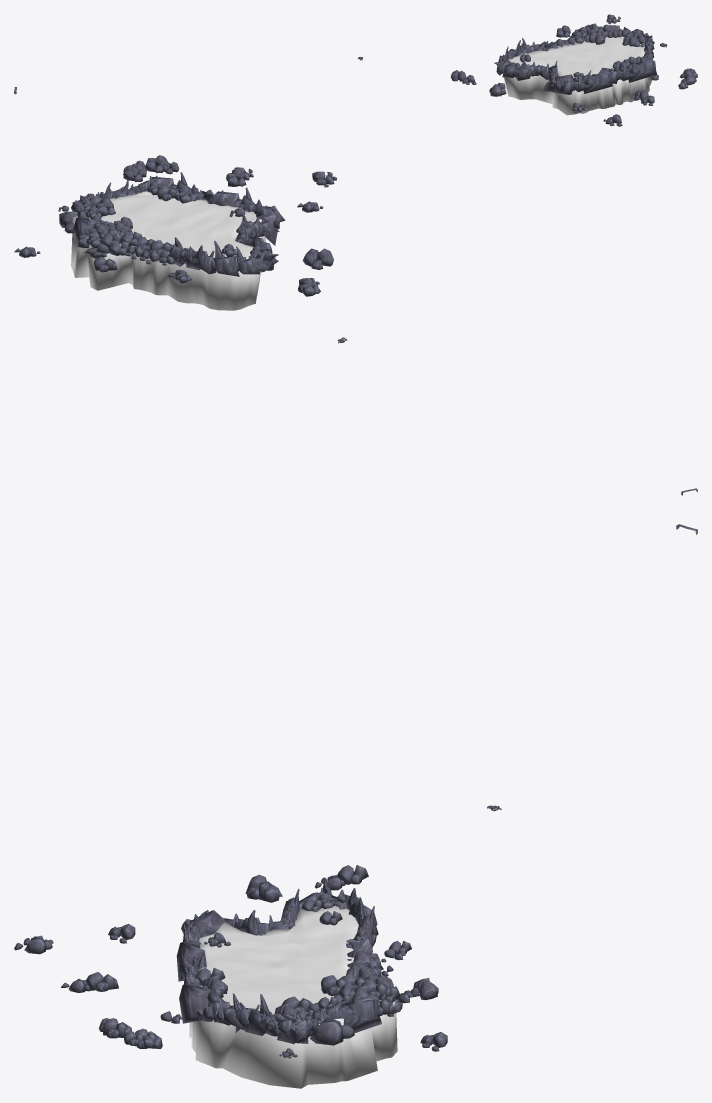
File: HubFloor.fbx
The picture shows the model from 3 angles, top to bottom: view 1: azimuth 30°, elevation 25°; view 2: azimuth 150°, elevation 25°; view 3: azimuth 270°, elevation 25°; orthographic projection. The views are drawn at different scales.
Visible parts, largest first — view 1: Cube.112, Plane.001; view 2: Cube.112, Plane.001; view 3: Cube.112, Plane.001.
Boxes of the visible parts, x1,y1,x2,y2 form: Cube.112: (14,14,697,126); Plane.001: (504,36,652,115); Cube.112: (14,155,697,495); Plane.001: (71,191,265,310); Cube.112: (14,524,697,1058); Plane.001: (189,905,397,1088).
Size of the model in its own units: 108 by 8.8 by 61.12.
Materials: 2 (1 with a texture image).
